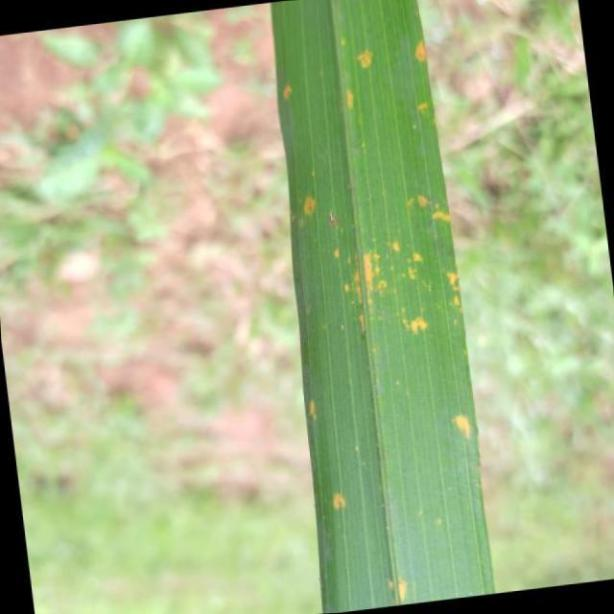Kalium: (270, 0, 501, 614)
